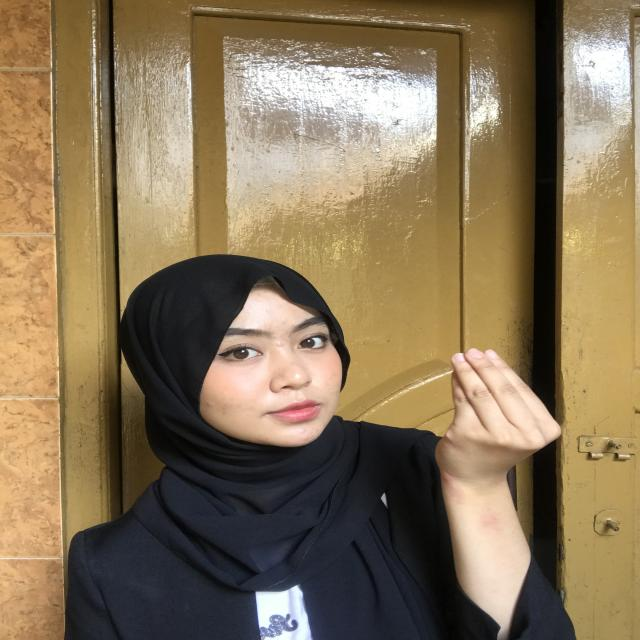kapan: (414, 342, 598, 528)
